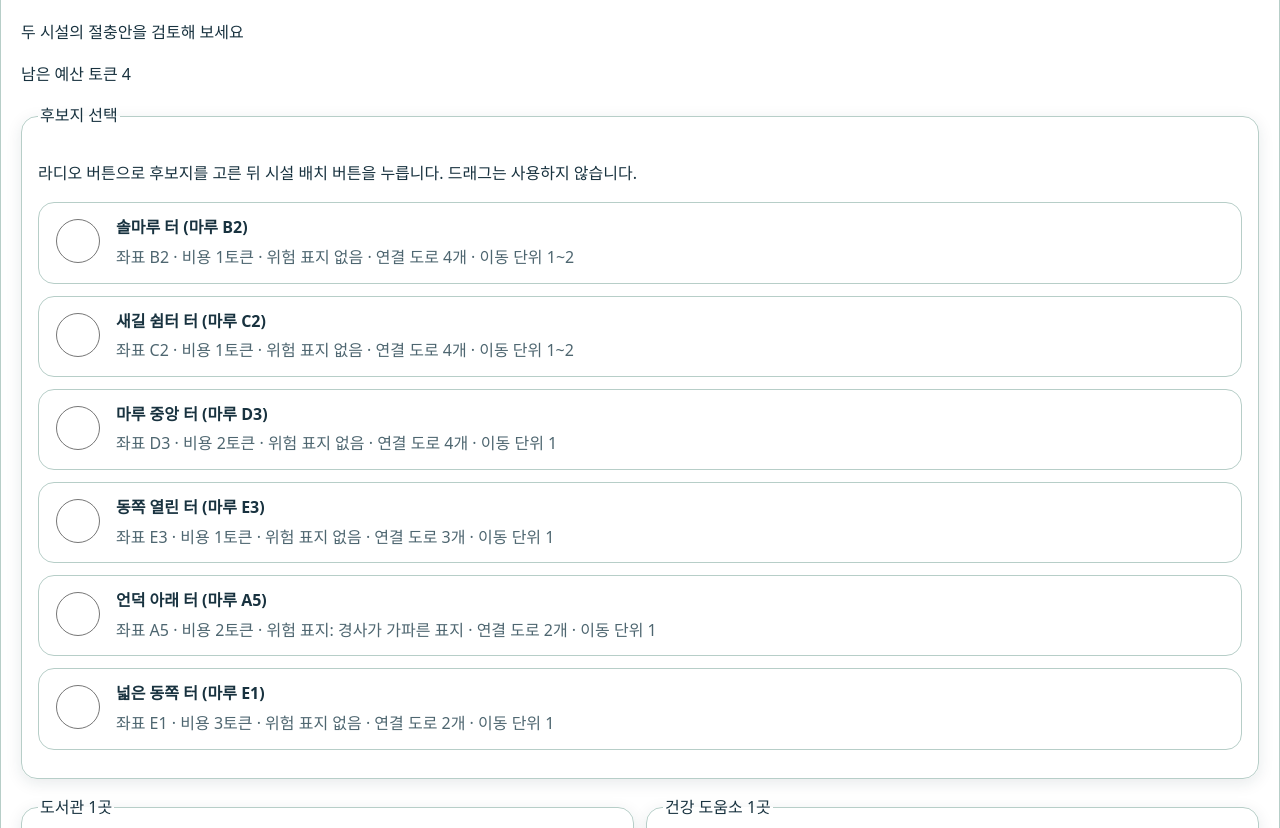
Scenario: FacilityPlacementPanel › shows two named slots and keeps their candidates distinct
Check: the text "도서관 1곳" is shown, box [38, 795, 114, 820]
Check: the text "건강 도움소 1곳" is shown, box [663, 795, 773, 820]
Click the 1st radio button at point(78, 242), box [56, 220, 100, 264]
(page scrolled)
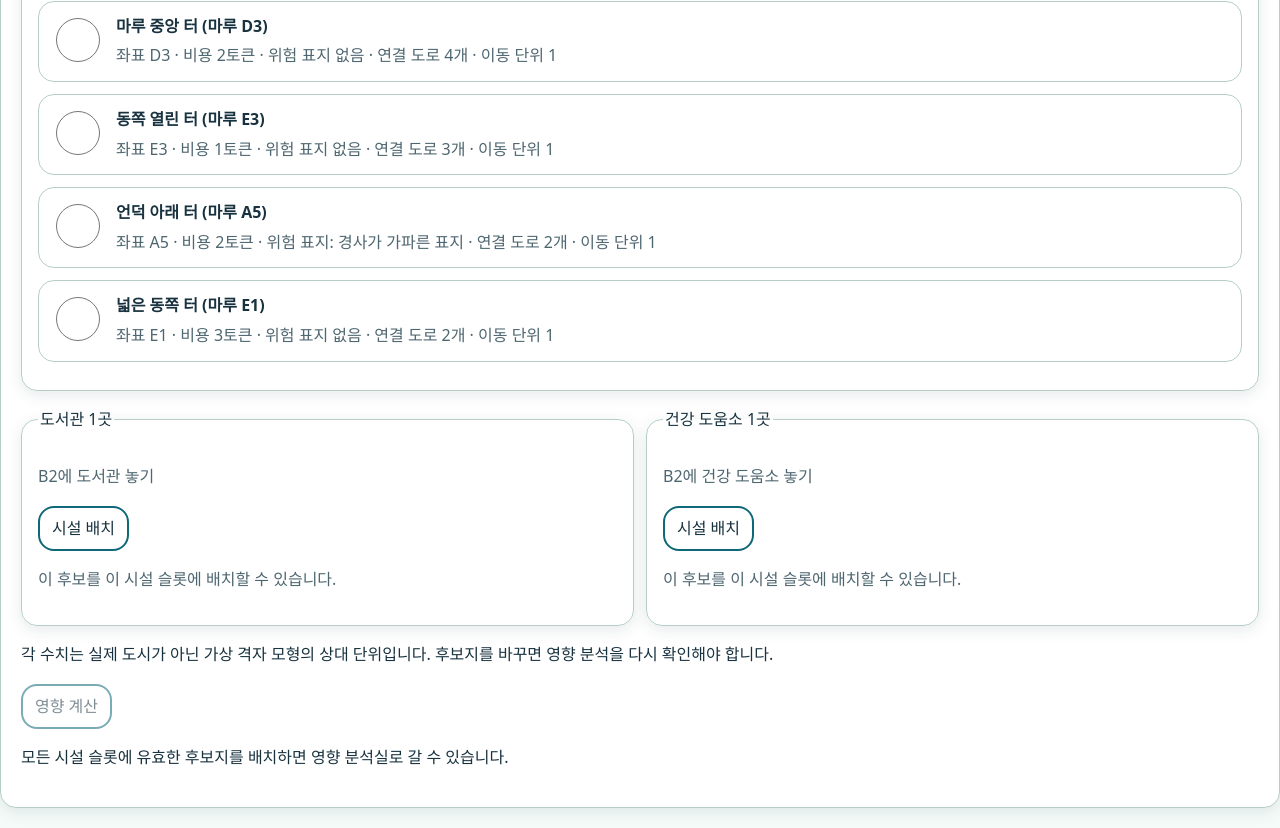
Click the button with aria-label "도서관 1곳 시설 배치" at point(84, 529), box [38, 506, 129, 551]
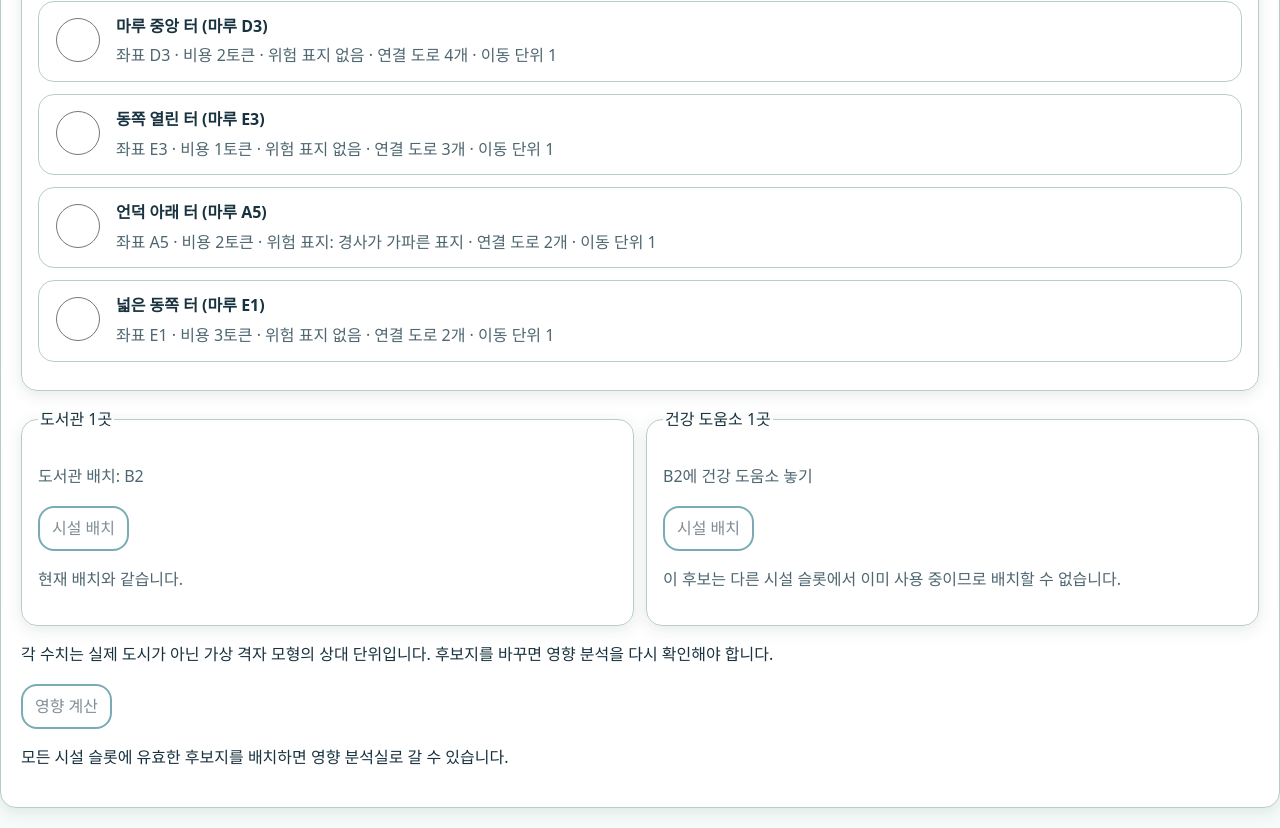
Check: the text "도서관 배치: B2" is shown, box [38, 465, 144, 487]
Click the 3rd radio button at point(78, 133), box [56, 111, 100, 155]
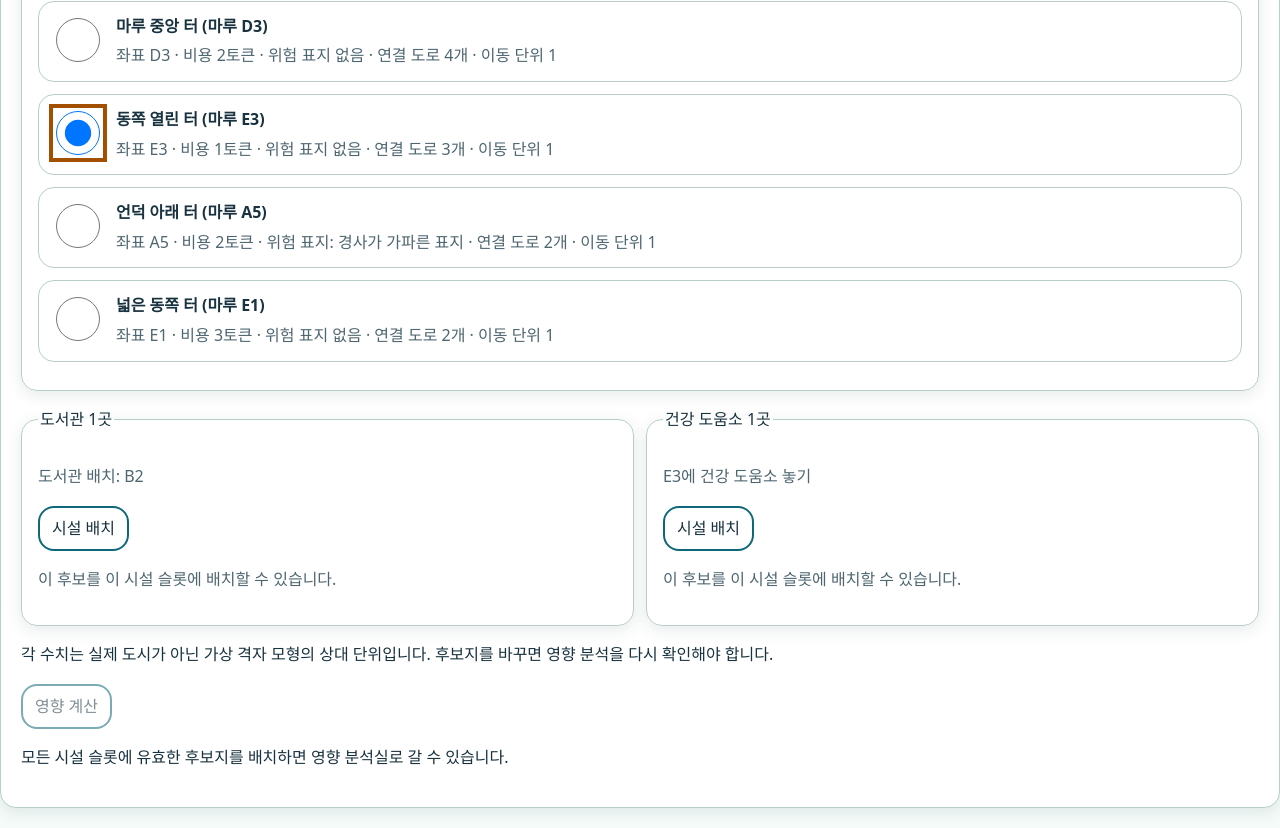
Click the button with aria-label "건강 도움소 1곳 시설 배치" at point(708, 529), box [663, 506, 754, 551]
(page scrolled)
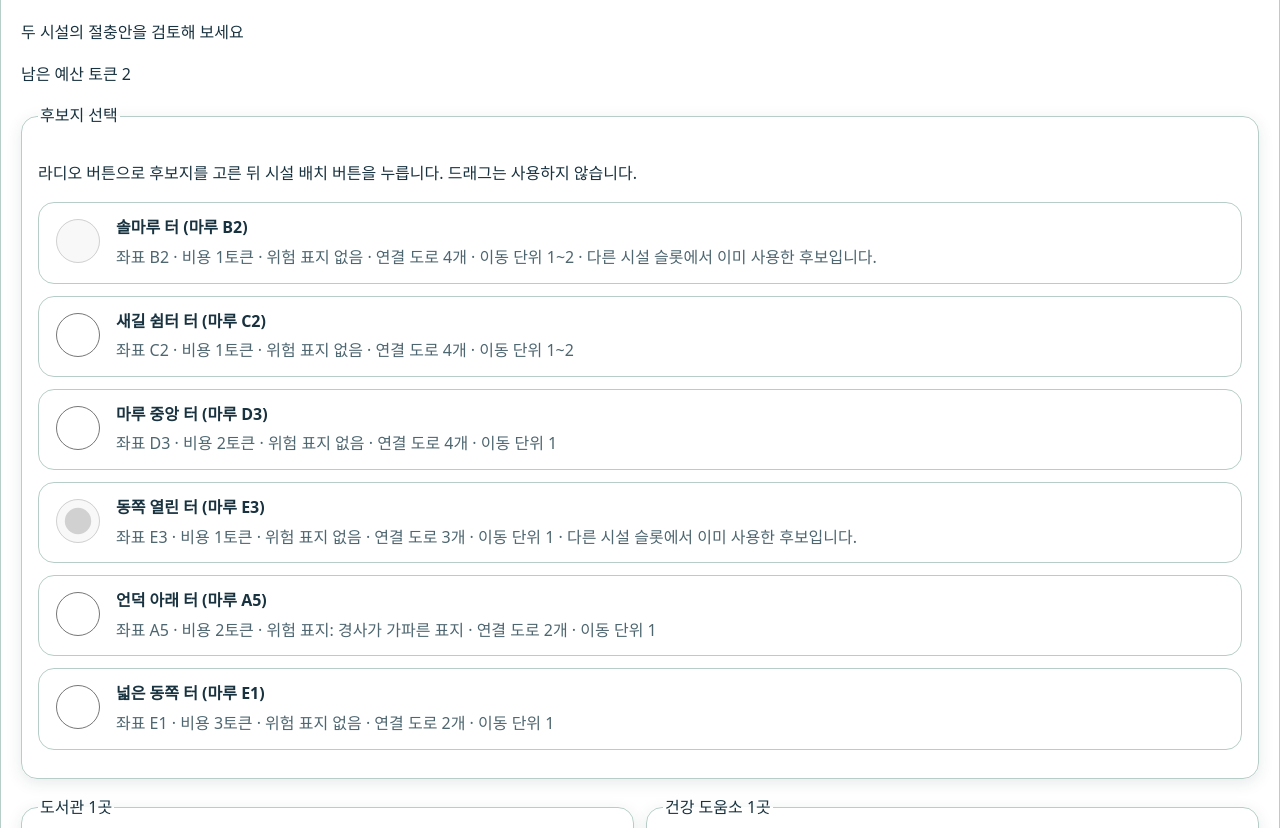
Check: the text "남은 예산 토큰 2" is shown, box [21, 63, 131, 85]
